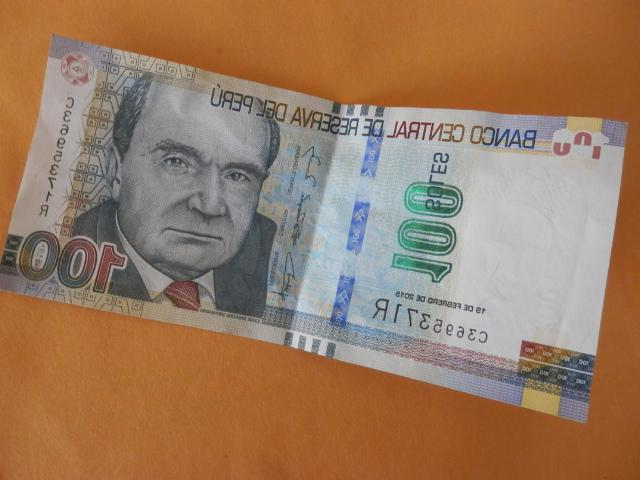B100: (1, 34, 628, 424)
